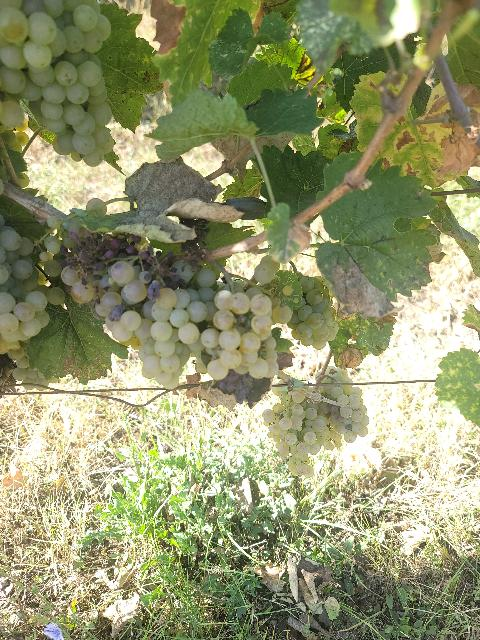grapes: (95, 279, 218, 389), (0, 215, 50, 359), (200, 289, 279, 380), (262, 389, 335, 478), (289, 276, 339, 350), (329, 385, 370, 442)
